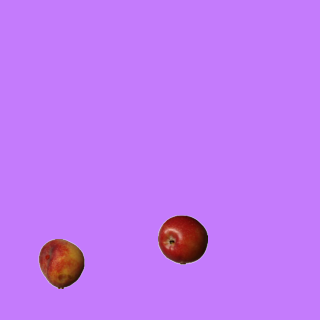Apple Braeburn: (157, 214, 207, 264)
Peach: (36, 238, 86, 288)
